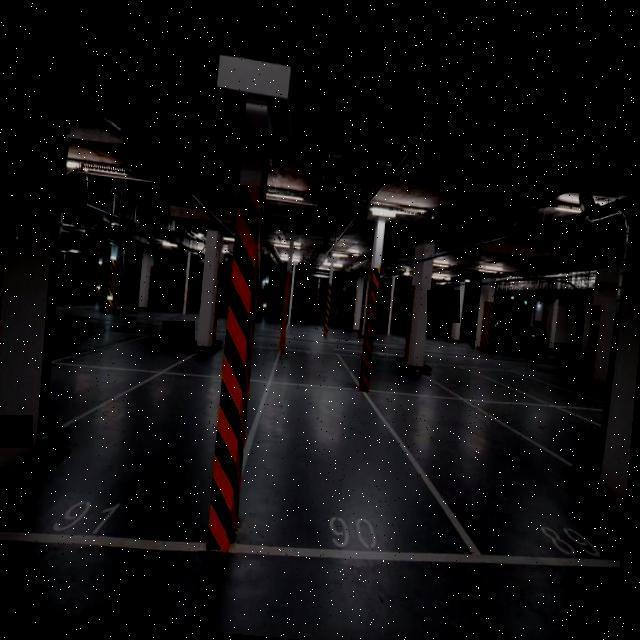free: (205, 379, 487, 563), (0, 368, 277, 552), (360, 392, 625, 572)
